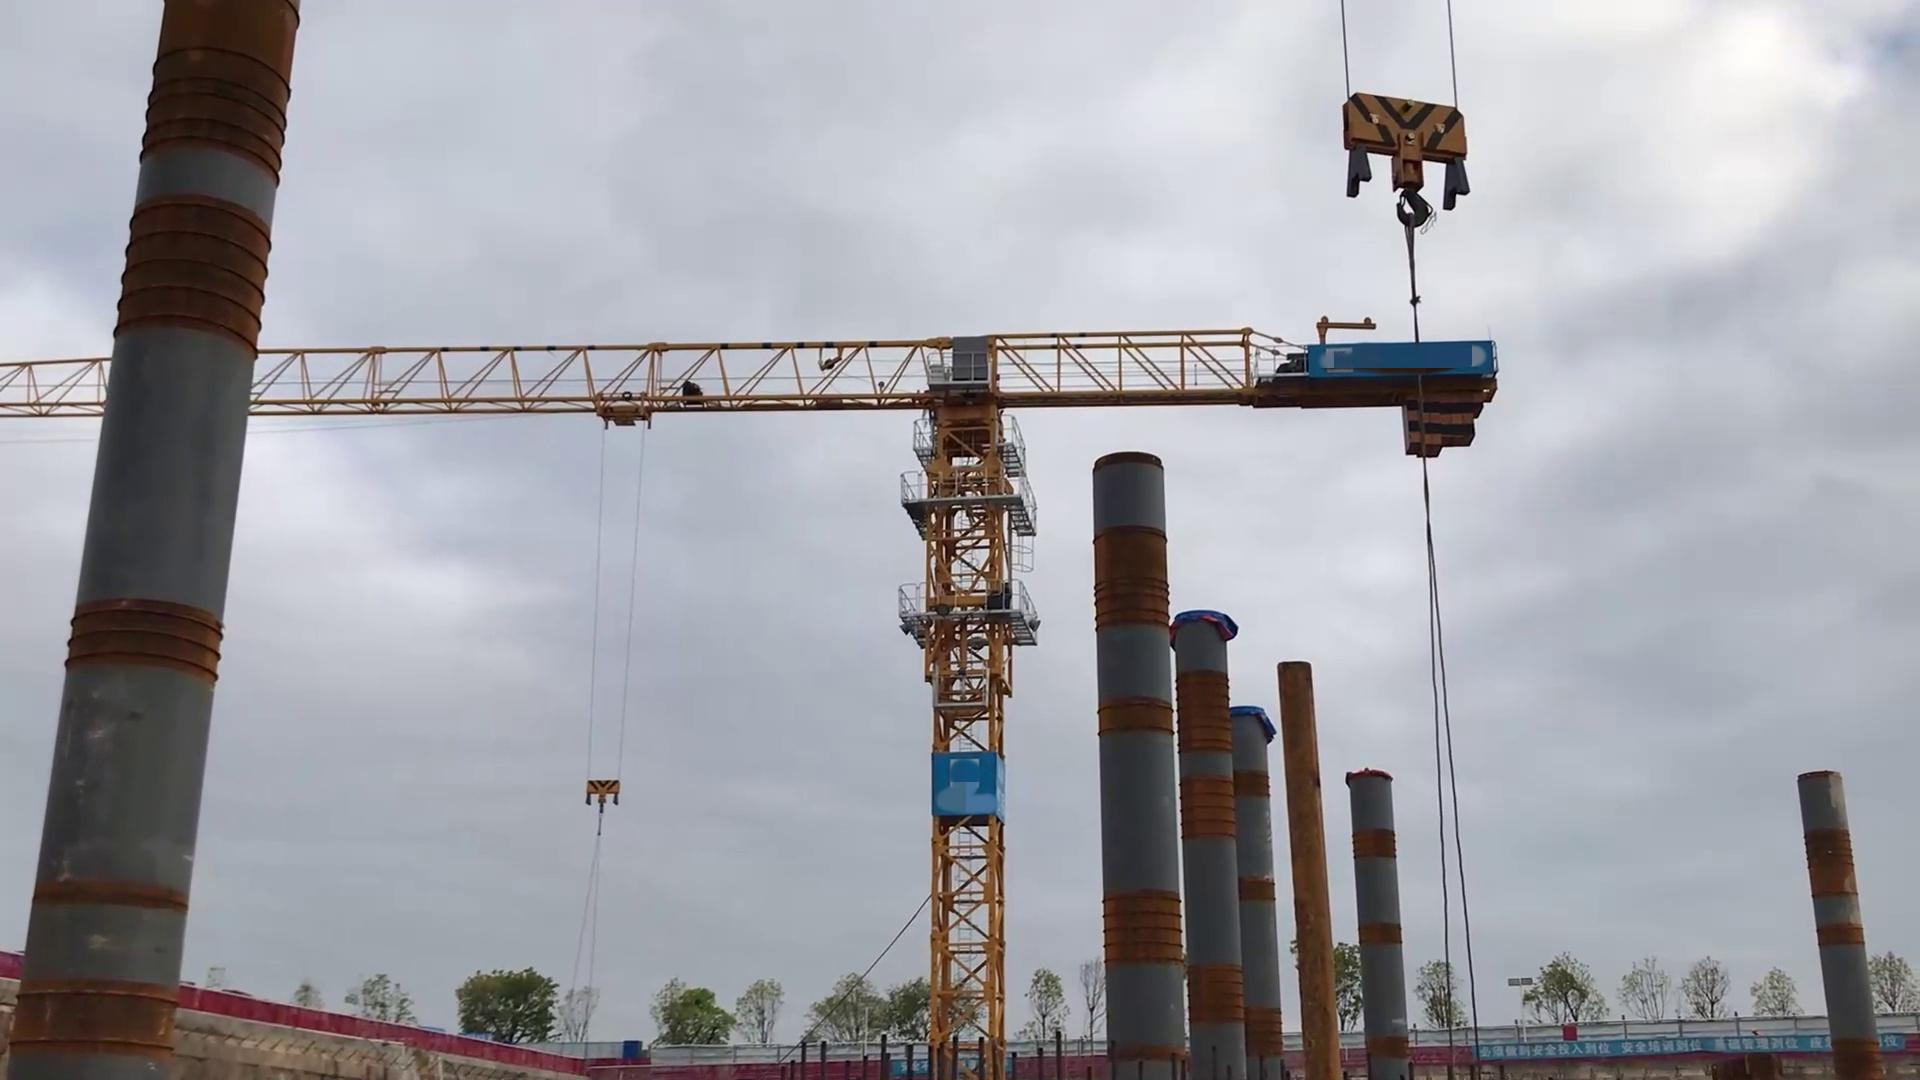hook: (1333, 87, 1480, 233), (582, 775, 624, 810)
slogan: (1473, 1034, 1904, 1062)
